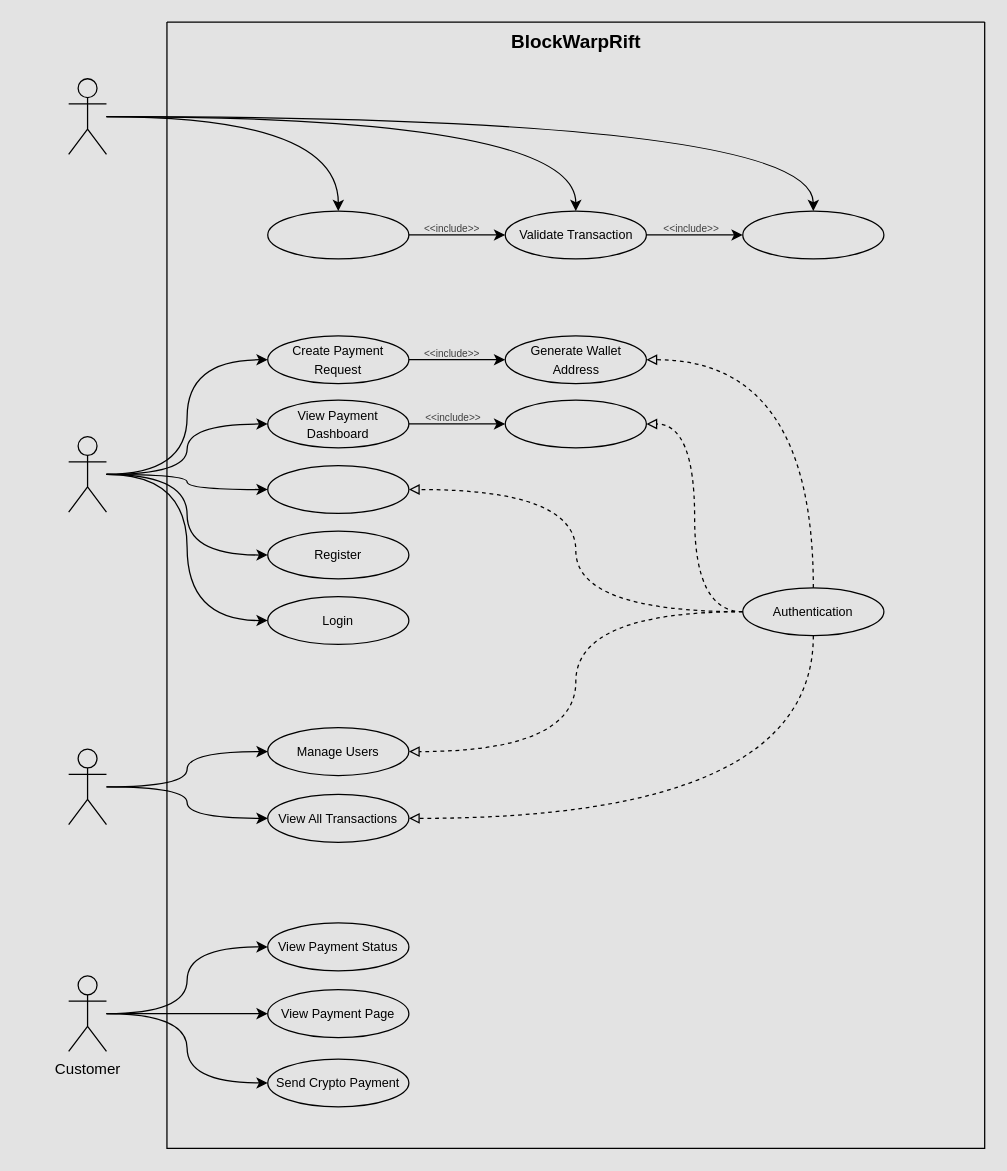
Image size: 1007x1171. Some labels were removed from this diagram. The shapes that lost their labels are listed below. From the top down, each one's centre as x and y in pixels, then its label:
(86,115): Blockchain Network
(337,234): Detect Transaction
(813,234): Update Payment Status
(575,423): Generate QR Code
(86,473): Merchant
(337,488): View Transactions History
(86,786): Admin
